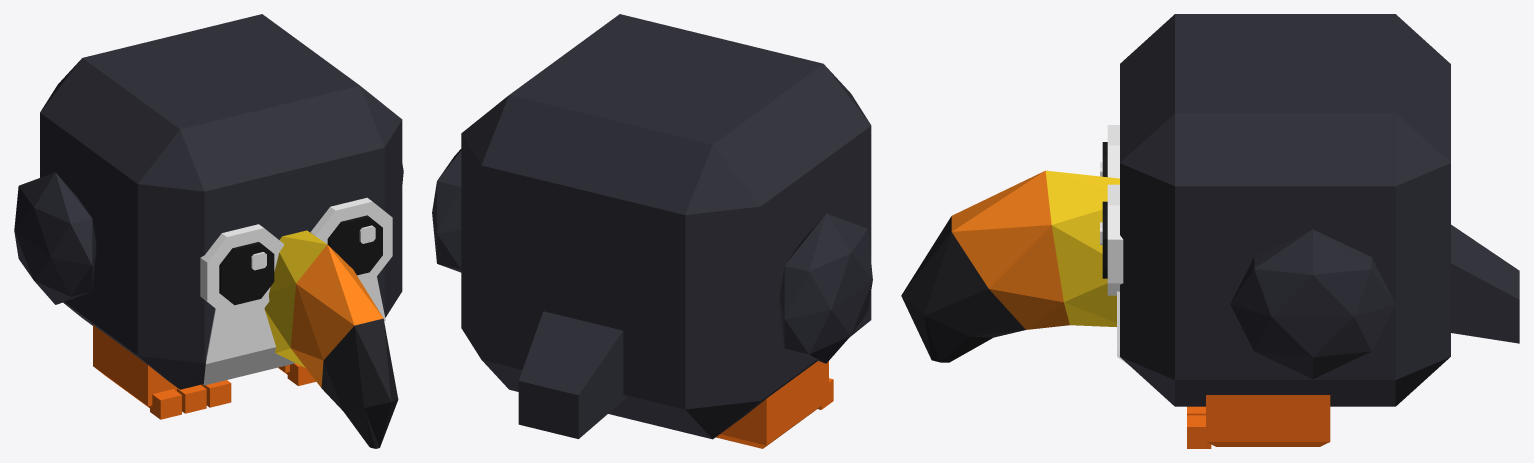
Rendered from Toucan.fbx.
3 renders of one model, left to right at view 1: azimuth 30°, elevation 25°; view 2: azimuth 150°, elevation 25°; view 3: azimuth 270°, elevation 25°, orthographic. The views are drawn at different scales.
Visible parts, largest first — view 1: Toucan, Toucan_Wings, Toucan_BeakMid, Toucan_BeakTip, Toucan_Eyes, Toucan_Feet, Toucan_White, Toucan_Pupils, Toucan_BeakTop; view 2: Toucan, Toucan_Wings, Toucan_Feet; view 3: Toucan, Toucan_Wings, Toucan_BeakMid, Toucan_BeakTip, Toucan_BeakTop, Toucan_Feet, Toucan_Eyes, Toucan_Pupils.
Boxes of the visible parts, x1,y1,x2,y2 form: Toucan: (40,14,402,389); Toucan_Wings: (14,164,403,304); Toucan_BeakMid: (290,244,383,387); Toucan_BeakTip: (321,318,398,448); Toucan_Eyes: (200,197,392,317); Toucan_Feet: (93,325,316,419); Toucan_White: (203,277,385,385); Toucan_Pupils: (219,215,382,305); Toucan_BeakTop: (264,230,327,367); Toucan: (461,14,871,439); Toucan_Wings: (432,149,872,438); Toucan_Feet: (716,361,833,448); Toucan: (1120,14,1450,406); Toucan_Wings: (1230,224,1519,378); Toucan_BeakMid: (951,170,1069,329); Toucan_BeakTip: (901,216,1025,362); Toucan_BeakTop: (1045,170,1119,326); Toucan_Feet: (1187,395,1330,448); Toucan_Eyes: (1100,125,1123,295); Toucan_Pupils: (1102,142,1107,278).
Bounding box in the file's own units: 2.67 × 2.1 × 3.59.
